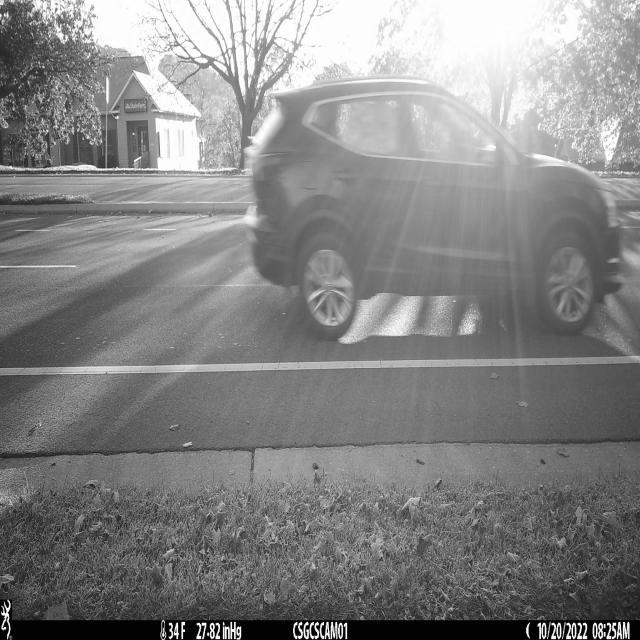SUV: (241, 75, 623, 341)
